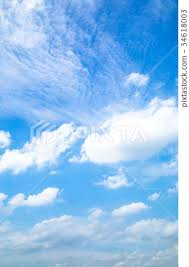sky: (2, 2, 170, 263)
